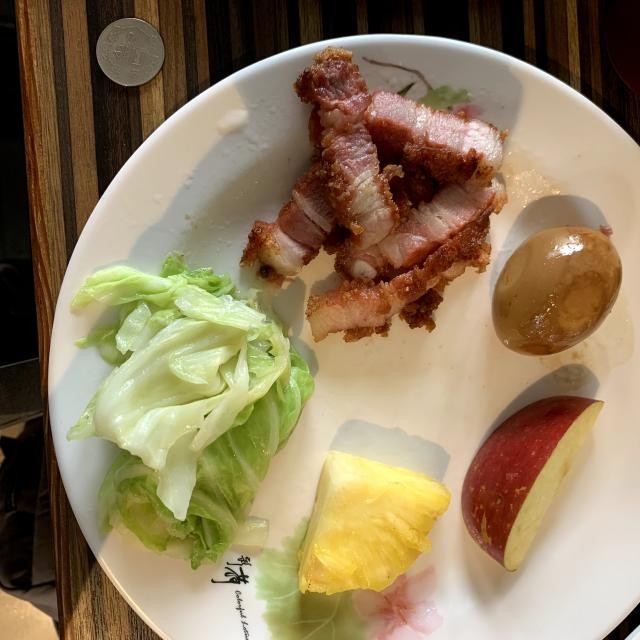apple -sliced-: (461, 396, 604, 571)
cabbage: (68, 256, 314, 569)
coin: (96, 19, 165, 86)
pineapple: (299, 451, 451, 594)
red grilled pork: (241, 48, 508, 341)
soy egg: (492, 226, 621, 355)
